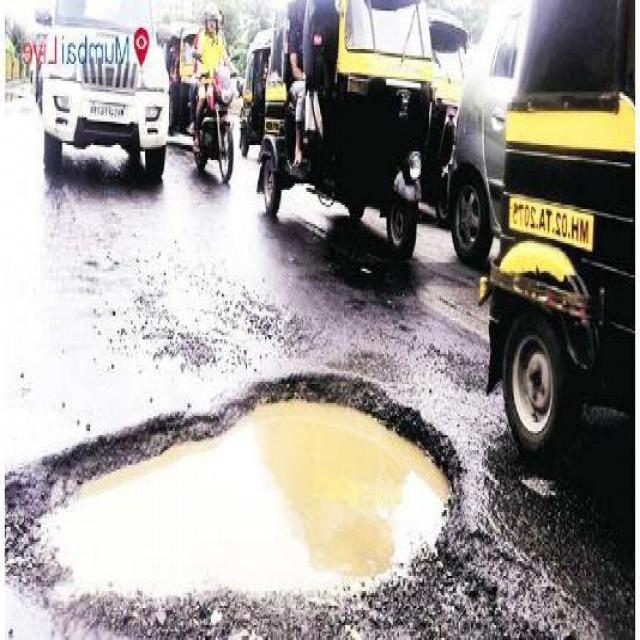pothole: (4, 367, 468, 638)
